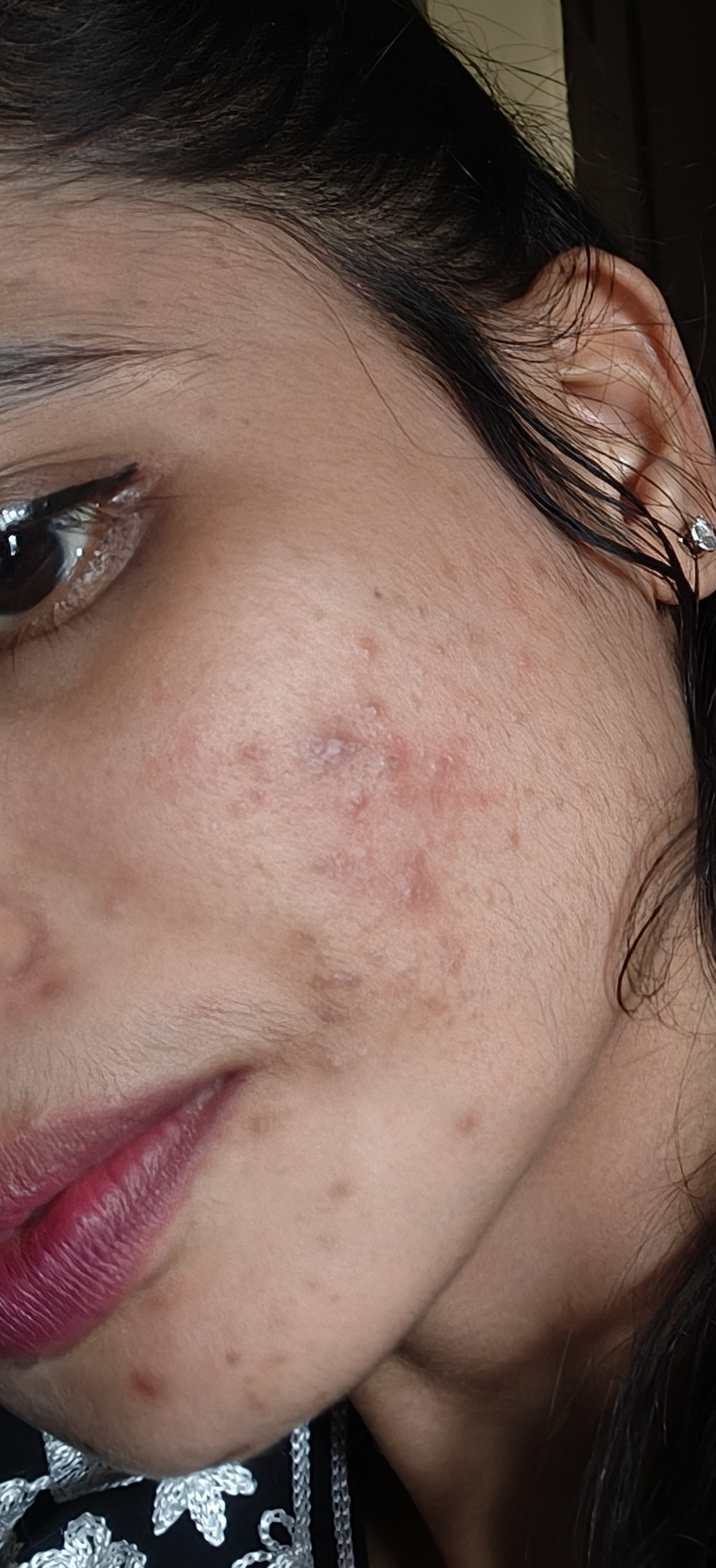open_comedone: (405, 964, 508, 1047), (332, 620, 410, 682), (89, 878, 149, 930)
papule: (319, 713, 405, 790), (105, 1357, 200, 1424), (353, 863, 459, 920), (412, 728, 477, 808), (311, 1036, 366, 1114)
